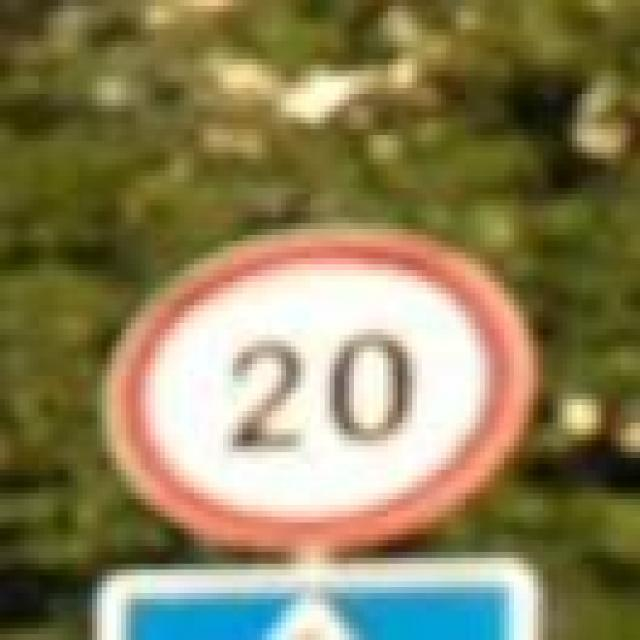forb_speed_over_20: (97, 223, 538, 552)
